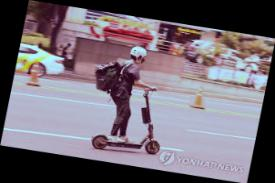helmet: (78, 40, 180, 159)
